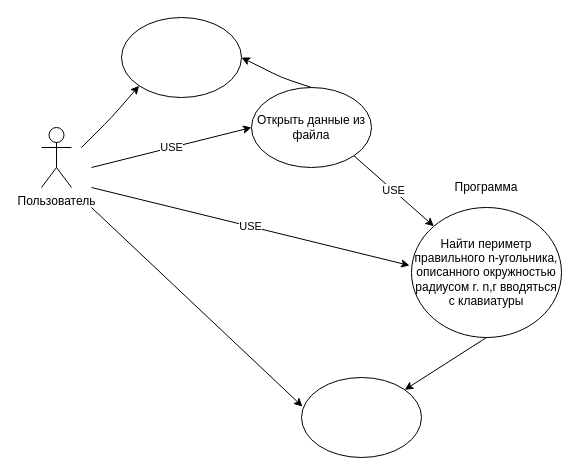
This 579x475 diagram has some shape labels left out. Here are the shapes that lost their labels. From the top down, the centre of each, then its label:
pixel 181 57: Сохранить данные
pixel 361 417: Сохранить отчёт
